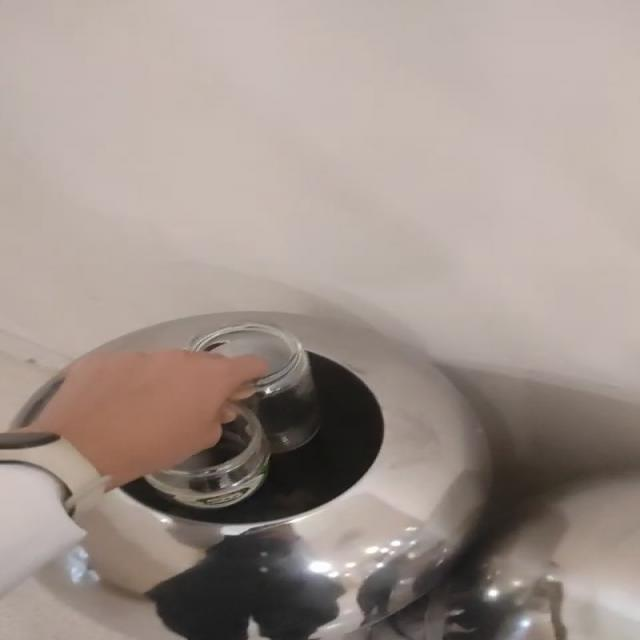glass: (145, 324, 320, 509)
